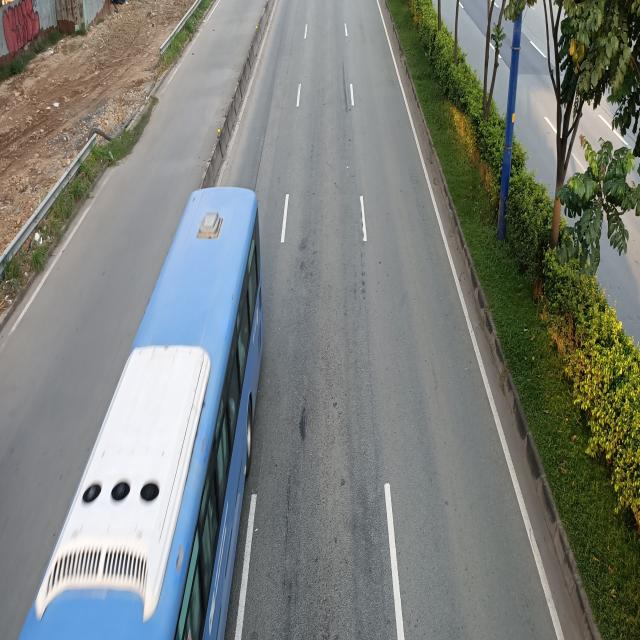coach: (17, 185, 264, 640)
